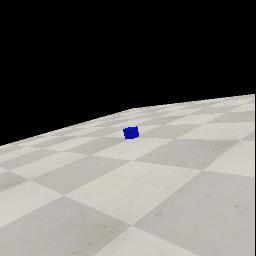box: (123, 126, 139, 139)
